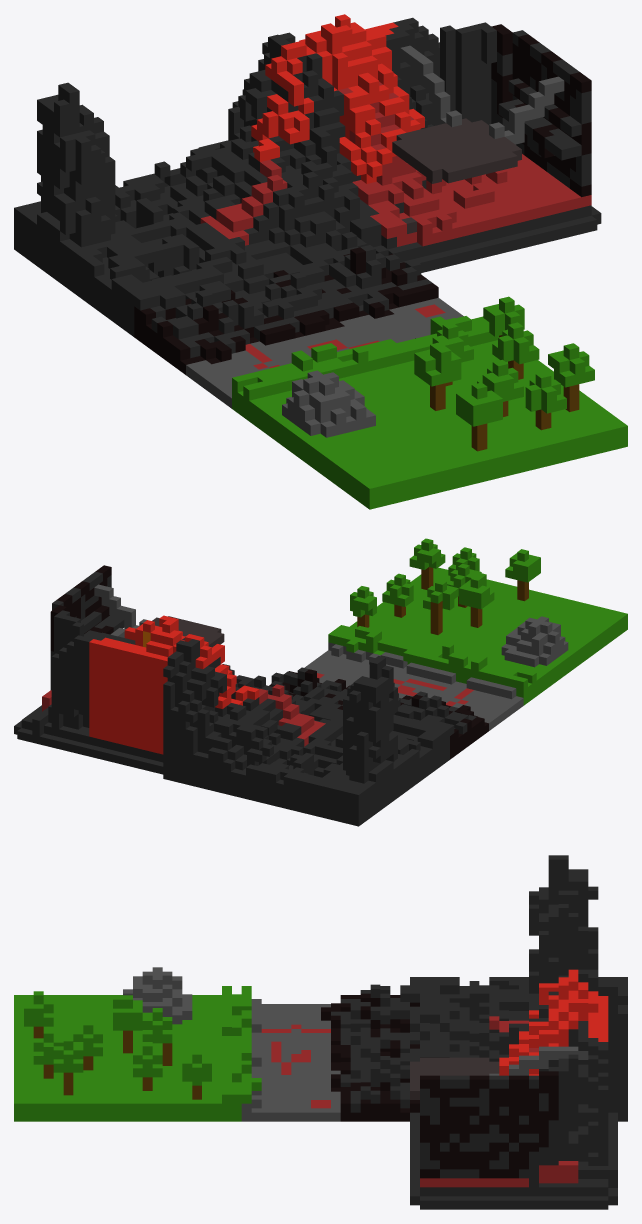
Rendered from World fire part 5.gltf.
The picture shows the model from 3 angles, top to bottom: view 1: azimuth 30°, elevation 25°; view 2: azimuth 150°, elevation 25°; view 3: azimuth 270°, elevation 25°; orthographic projection. The views are drawn at different scales.
Visible parts, largest first — view 1: Layer.1, Layer.2, Layer.4, Layer.3; view 2: Layer.2, Layer.1, Layer.4, Layer.3; view 3: Layer.1, Layer.4, Layer.3, Layer.2.
Boxes of the visible parts, x1,y1,x2,y2 form: Layer.1: (299,14,601,272); Layer.2: (14,32,381,336); Layer.4: (249,296,627,509); Layer.3: (134,245,498,421); Layer.2: (163,634,449,826); Layer.1: (14,565,224,774); Layer.4: (349,538,627,695); Layer.3: (269,625,536,759); Layer.1: (410,977,617,1209); Layer.4: (14,967,221,1121); Layer.3: (222,977,419,1121); Layer.2: (420,855,627,1121).
Bounding box in the file's own units: 47 × 18 × 62.
1 material, 1 textured.
